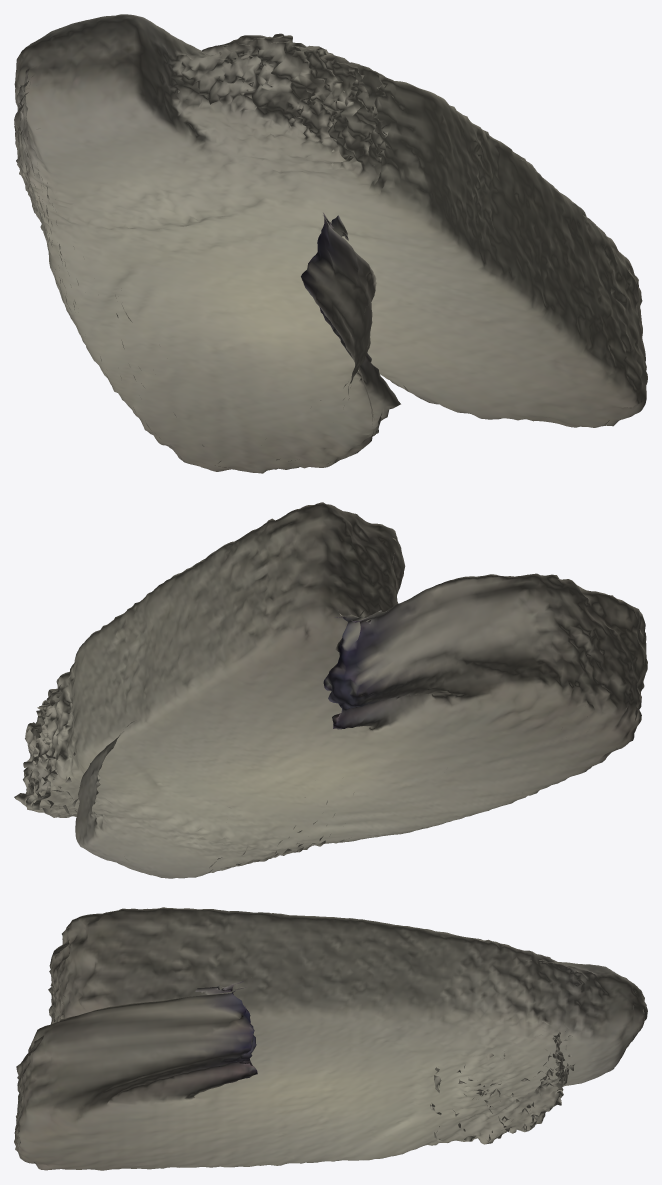
The model's file is collider.glb.
The picture shows the model from 3 angles, top to bottom: view 1: azimuth 30°, elevation 25°; view 2: azimuth 150°, elevation 25°; view 3: azimuth 270°, elevation 25°; orthographic projection. The views are drawn at different scales.
Parts seen in each view (by area): view 1: world; view 2: world; view 3: world.
Boxes of the visible parts, left/top/right/bottom form: world: left=14, top=14, right=647, bottom=473; world: left=14, top=502, right=647, bottom=878; world: left=14, top=907, right=647, bottom=1170.
Size of the model in its own units: 17.08 by 6.32 by 27.76.
